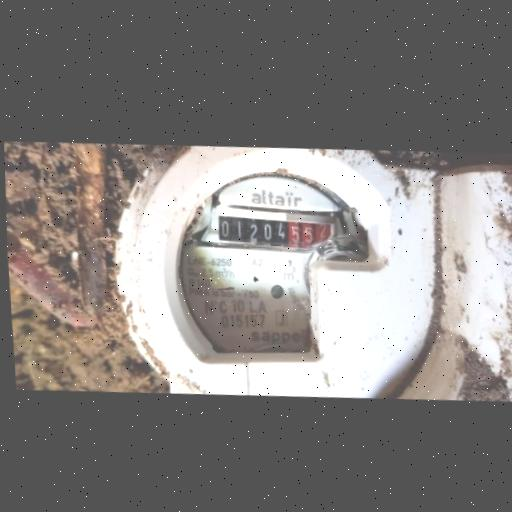0: (258, 217, 276, 245), (217, 215, 233, 242)
1: (230, 216, 248, 243)
2: (244, 216, 262, 244), (316, 223, 332, 245)
4: (273, 219, 289, 247)
5: (287, 220, 303, 246), (301, 222, 317, 247)
border_water_meter_number: (198, 201, 336, 256)
